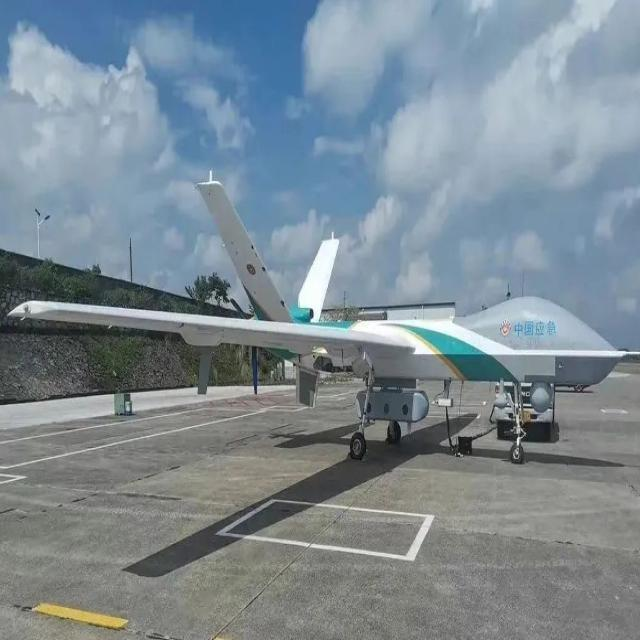iha: (8, 163, 640, 516)
